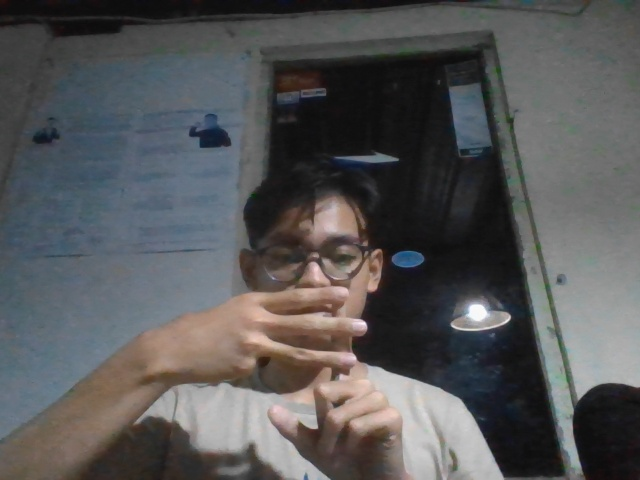B: (149, 278, 417, 476)
